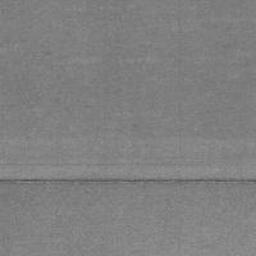Welding line: (0, 177, 256, 188)
